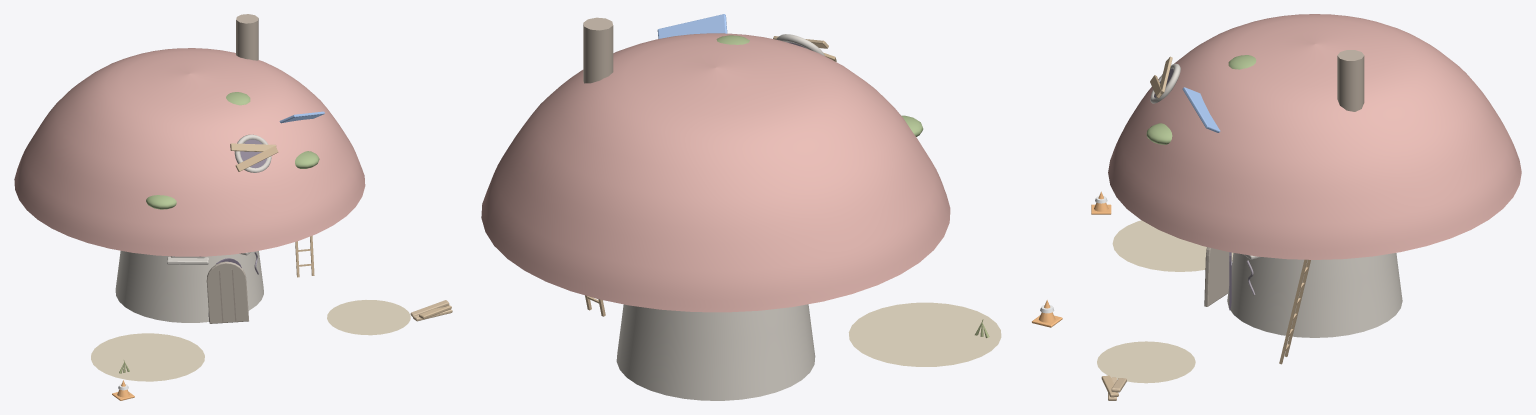
File: building_forest_L02.glb
The picture shows the model from 3 angles, left to right: view 1: azimuth 30°, elevation 25°; view 2: azimuth 150°, elevation 25°; view 3: azimuth 270°, elevation 25°; orthographic projection. The views are drawn at different scales.
Parts seen in each view (by area): view 1: Body, forest_L2; view 2: Body, forest_L2; view 3: Body, forest_L2.
Part boxes in pixels (<box>): Body: <box>14,14,365,323</box>; forest_L2: <box>91,235,452,400</box>; Body: <box>481,14,950,400</box>; forest_L2: <box>585,295,1062,366</box>; Body: <box>1108,14,1521,337</box>; forest_L2: <box>1091,191,1310,400</box>.
Bounding box in the file's own units: 20.56 × 14.24 × 19.15.
